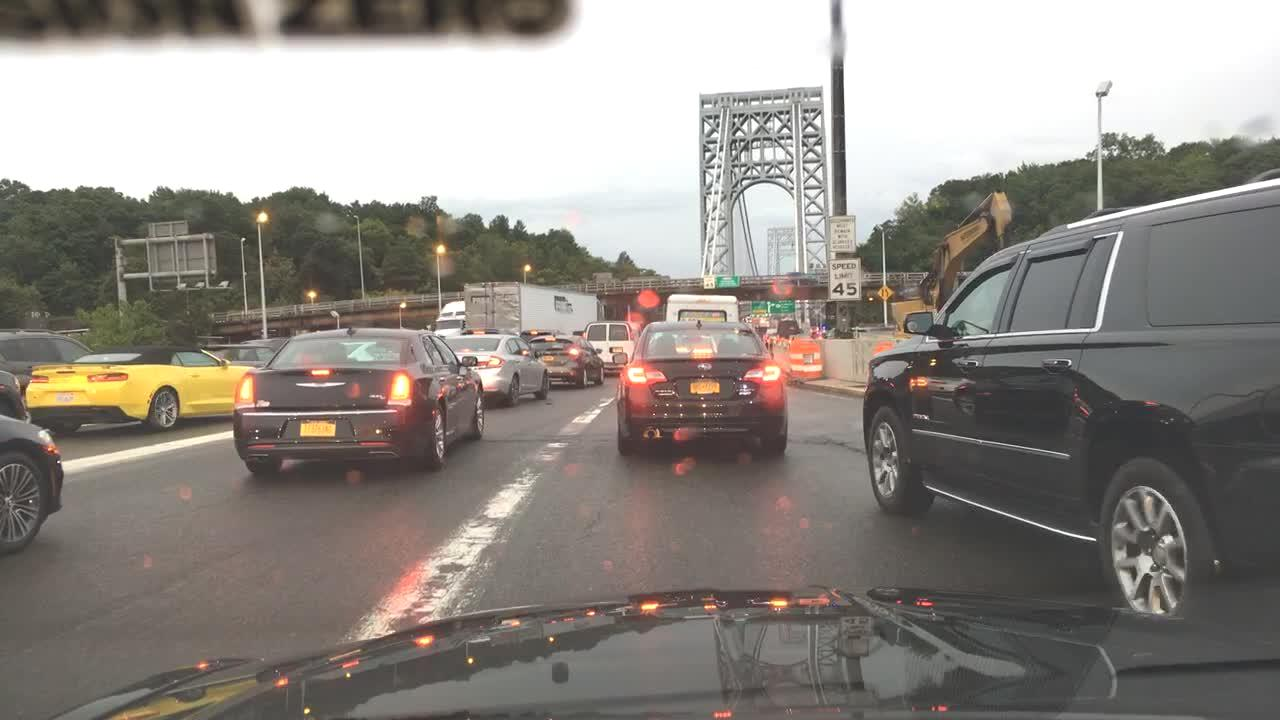Chrysler: (294, 377, 346, 397)
subaru: (696, 361, 715, 376)
